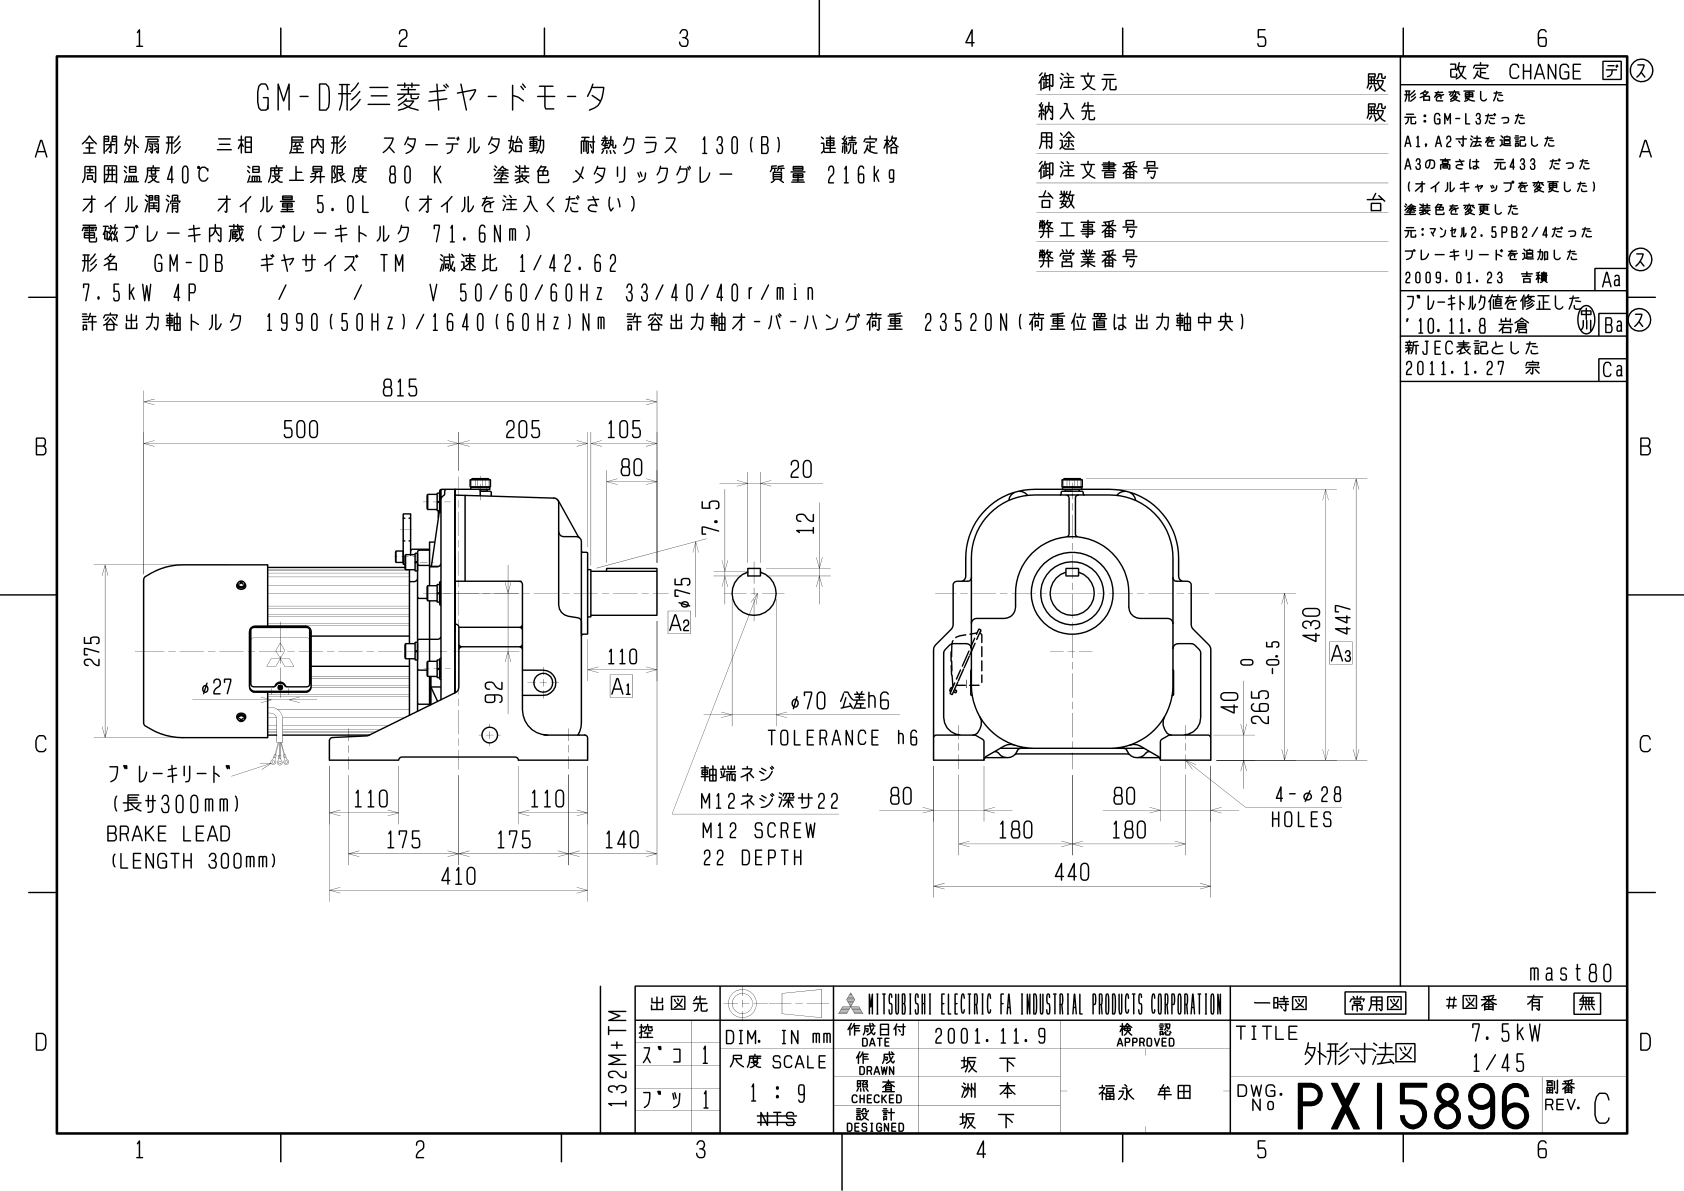GM_D_屋内＿三相_脚: (58, 342, 1385, 941)
